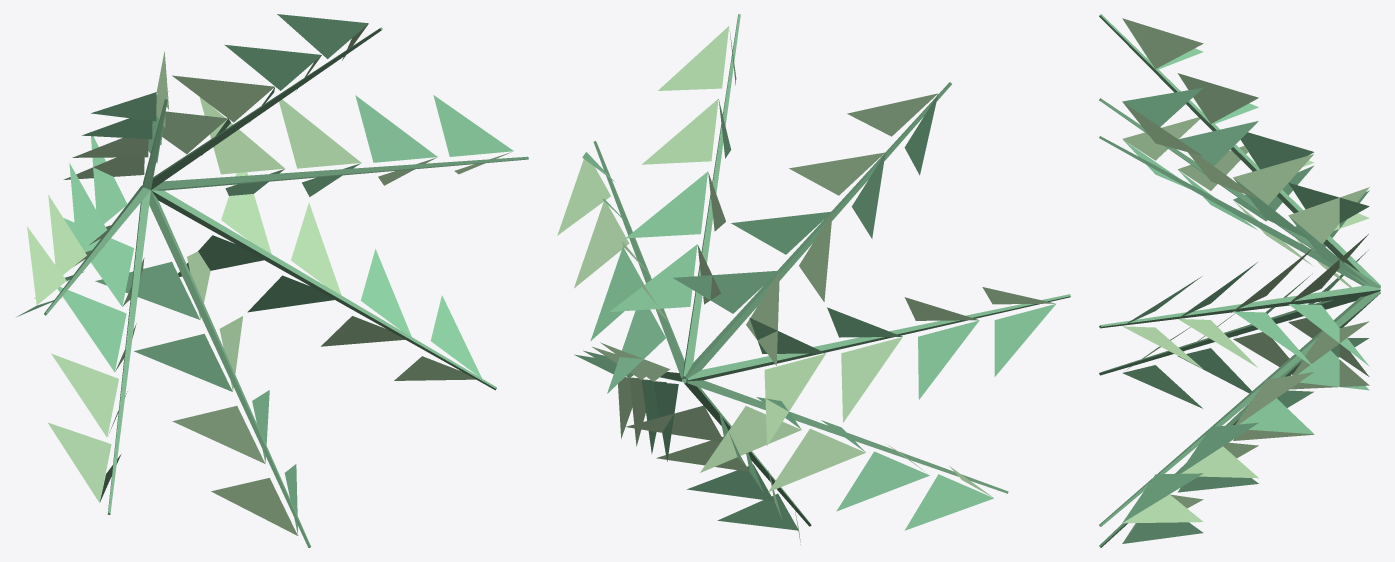
File: fern_large.glb
3 views of the same model, side by side, from view 1: azimuth 30°, elevation 25°; view 2: azimuth 150°, elevation 25°; view 3: azimuth 270°, elevation 25° (orthographic). The views are drawn at different scales.
Visible parts, largest first — view 1: fern_large_fern_light, fern_large_fern, fern_large_grass_dark; view 2: fern_large_fern, fern_large_fern_light, fern_large_grass_dark; view 3: fern_large_fern_light, fern_large_fern, fern_large_grass_dark.
Boxes of the visible parts, <box> form: fern_large_fern_light: <box>27,24,511,535</box>; fern_large_fern: <box>16,14,513,535</box>; fern_large_grass_dark: <box>44,27,528,547</box>; fern_large_fern: <box>574,30,1055,530</box>; fern_large_fern_light: <box>557,26,1055,544</box>; fern_large_grass_dark: <box>593,14,1070,526</box>; fern_large_fern_light: <box>1122,18,1369,540</box>; fern_large_fern: <box>1122,28,1369,543</box>; fern_large_grass_dark: <box>1099,14,1380,547</box>.
Bounding box in the file's own units: 1.62 × 1.61 × 0.8491.
